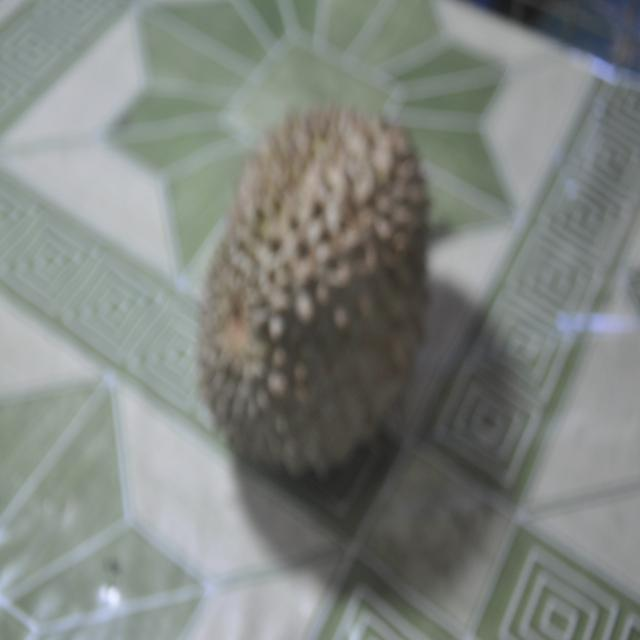mature: (164, 88, 456, 518)
